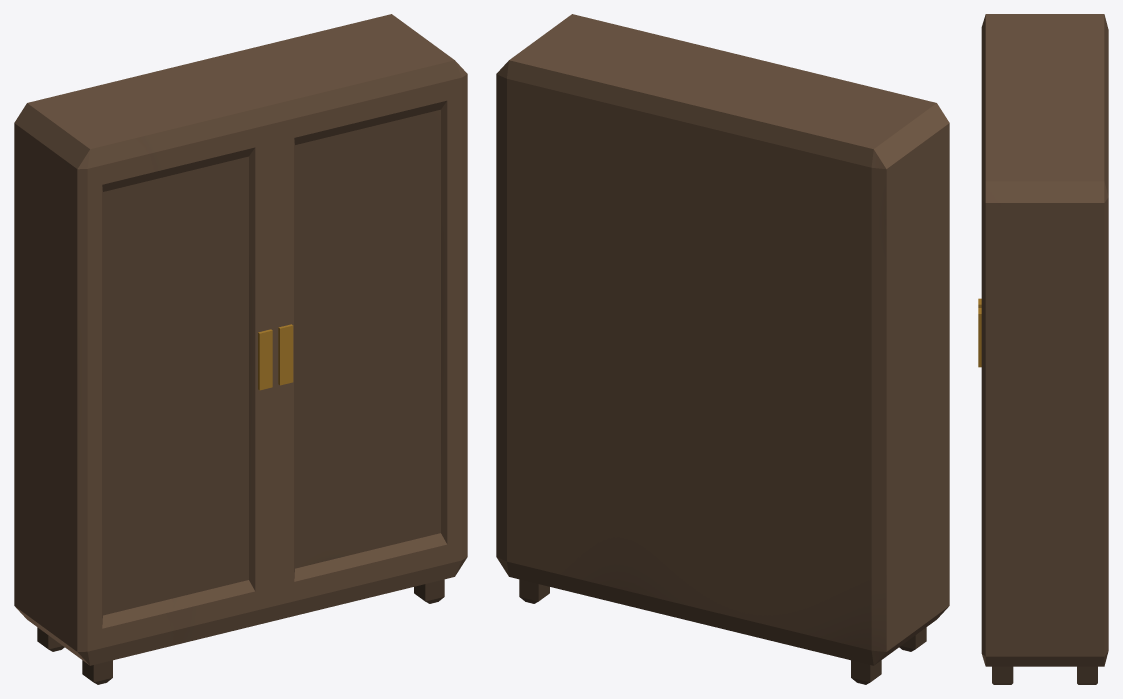
Rendered from Cabinet1.fbx.
The picture shows the model from 3 angles, left to right: view 1: azimuth 30°, elevation 25°; view 2: azimuth 150°, elevation 25°; view 3: azimuth 270°, elevation 25°; orthographic projection. The views are drawn at different scales.
Parts seen in each view (by area): view 1: Cube; view 2: Cube; view 3: Cube.
Part boxes in pixels (<box>): Cube: <box>14,14,467,684</box>; Cube: <box>496,14,949,684</box>; Cube: <box>978,14,1108,684</box>.
Size of the model in its own units: 400 by 531 by 123.
1 material, 1 textured.
